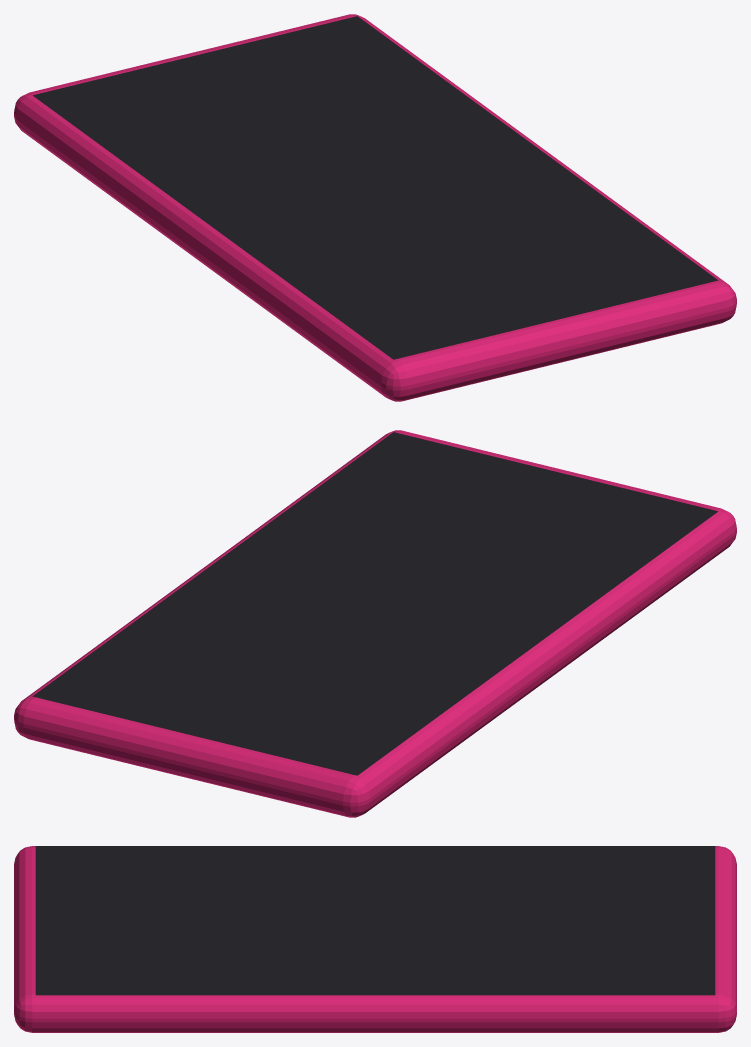
The model's file is Phone_912.glb.
3 views of the same model, one above another, from view 1: azimuth 30°, elevation 25°; view 2: azimuth 150°, elevation 25°; view 3: azimuth 270°, elevation 25° (orthographic). The views are drawn at different scales.
Visible parts, largest first — view 1: Phone_Screen, Phone_Body; view 2: Phone_Screen, Phone_Body; view 3: Phone_Screen, Phone_Body.
Boxes of the visible parts, x1=… form: Phone_Screen: x1=33, y1=16, x2=718, y2=359; Phone_Body: x1=14, y1=14, x2=736, y2=401; Phone_Screen: x1=32, y1=432, x2=717, y2=775; Phone_Body: x1=14, y1=430, x2=736, y2=817; Phone_Screen: x1=35, y1=846, x2=715, y2=995; Phone_Body: x1=14, y1=846, x2=736, y2=1032.
Bounding box in the file's own units: 0.0792 × 0.0085 × 0.1492.
